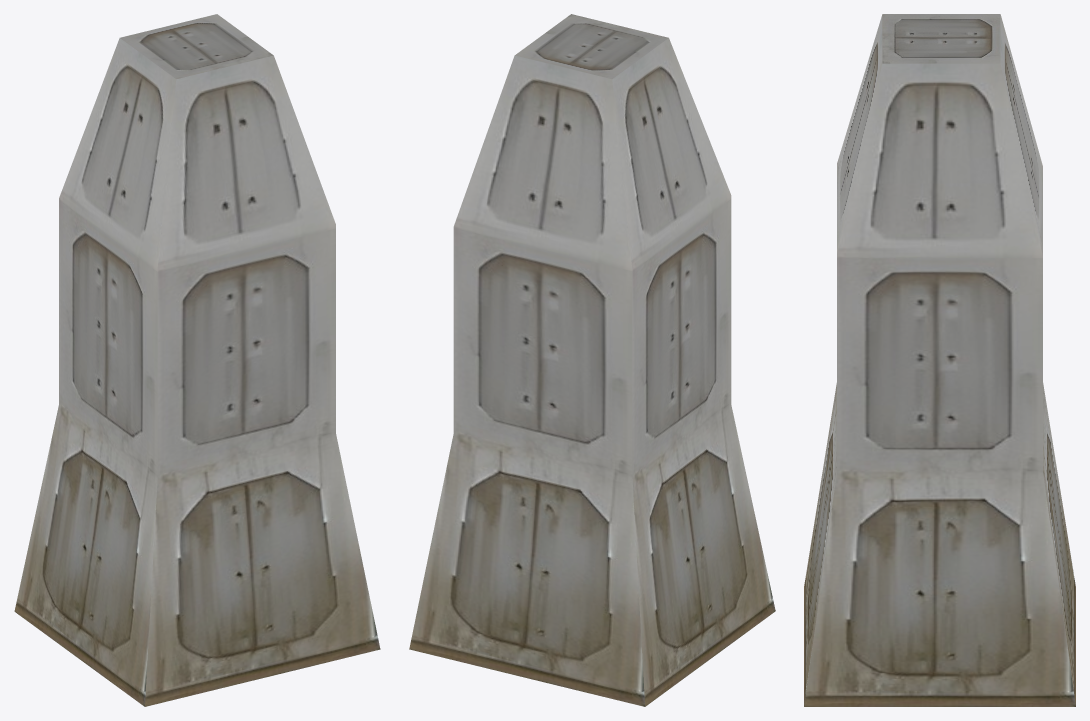
The model's file is l_heavypost_hdtex.glb.
The picture shows the model from 3 angles, left to right: view 1: azimuth 30°, elevation 25°; view 2: azimuth 150°, elevation 25°; view 3: azimuth 270°, elevation 25°; orthographic projection. The views are drawn at different scales.
Visible parts, largest first — view 1: L_HeavyWall; view 2: L_HeavyWall; view 3: L_HeavyWall.
Boxes of the visible parts, left/top/right/bottom form: L_HeavyWall: left=14, top=14, right=380, bottom=706; L_HeavyWall: left=409, top=14, right=775, bottom=706; L_HeavyWall: left=804, top=14, right=1075, bottom=706.
Size of the model in its own units: 7.52 by 17.81 by 7.21.
Materials: 1 (1 with a texture image).
